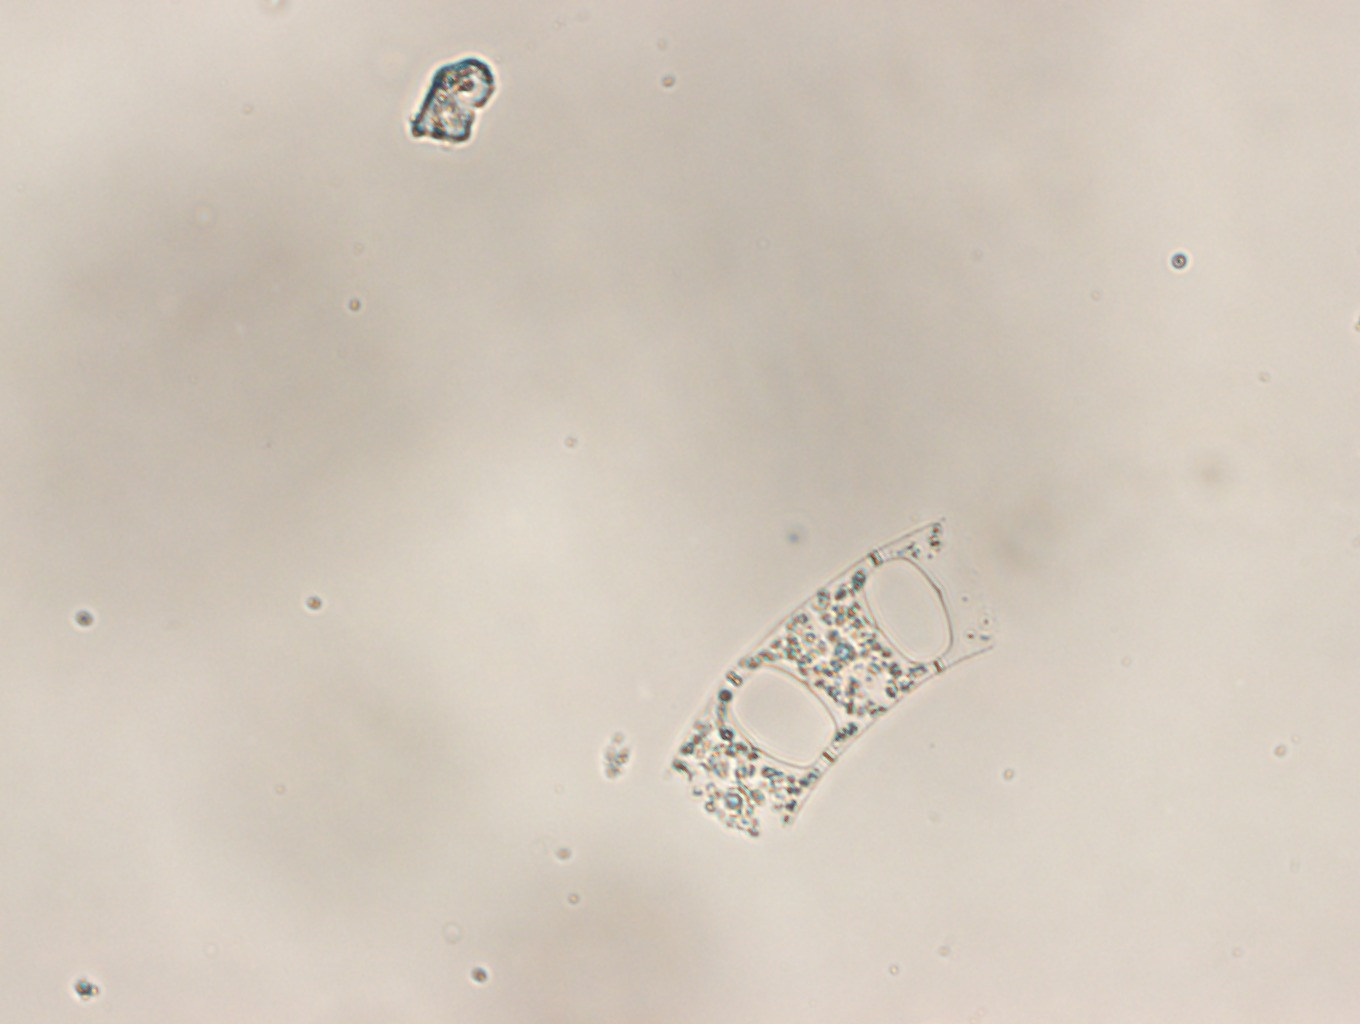eucampia: (668, 514, 994, 836)
